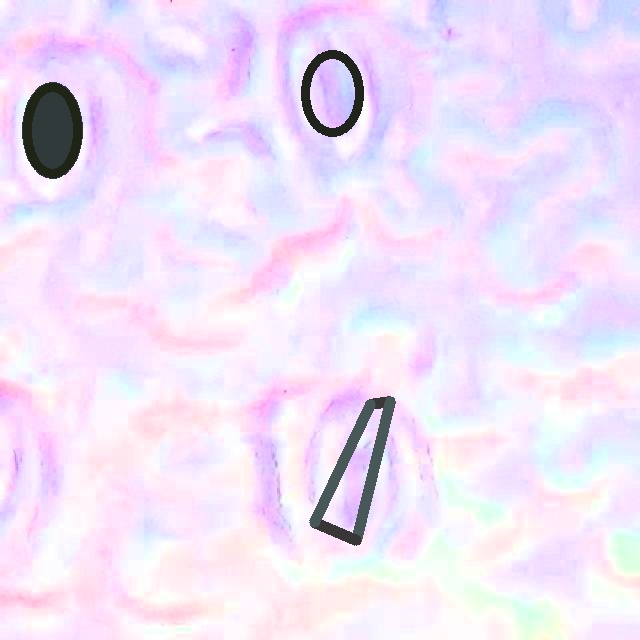open: (309, 400, 395, 544), (22, 83, 83, 178), (300, 50, 365, 136)
